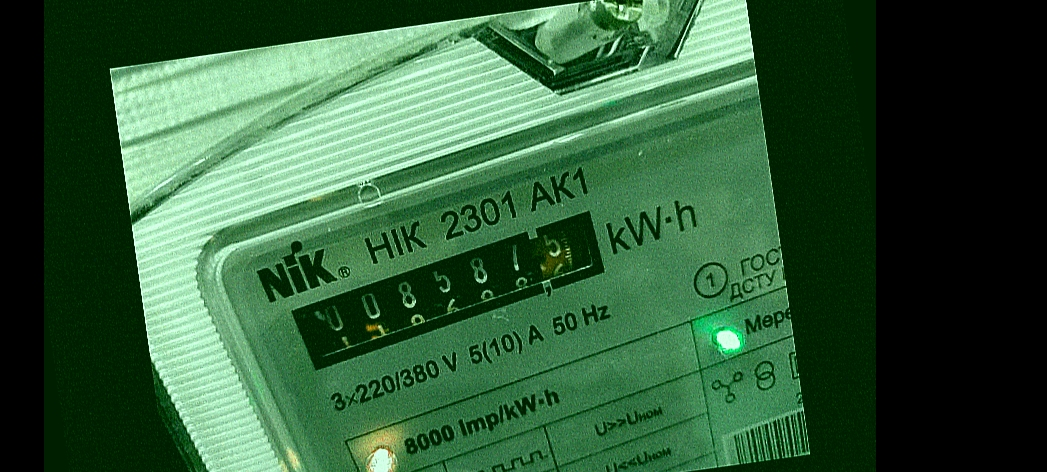0: (356, 285, 387, 322), (320, 298, 350, 333)
5: (430, 262, 457, 296), (540, 224, 566, 258)
6: (549, 259, 570, 278)
7: (502, 239, 529, 275)
8: (394, 276, 423, 311), (466, 251, 493, 287)
screen: (276, 205, 636, 374)
